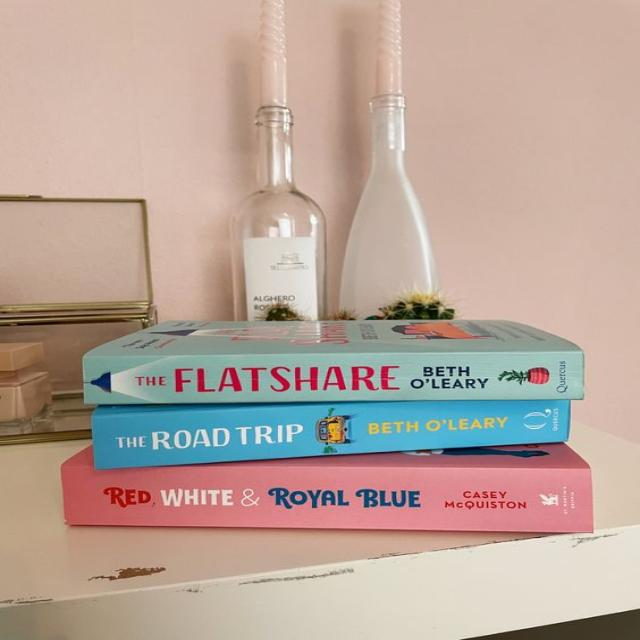book: (61, 444, 593, 533), (94, 400, 570, 469), (91, 352, 583, 400)
